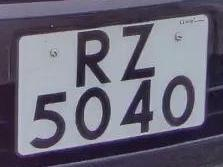0: (71, 83, 121, 147), (158, 68, 201, 135)
4: (118, 74, 162, 139)
5: (23, 85, 75, 156)
R: (65, 24, 120, 88)
Z: (114, 21, 164, 82)
